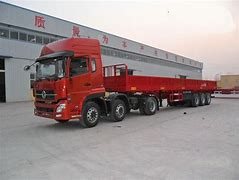bigtruck: (30, 37, 217, 125)
